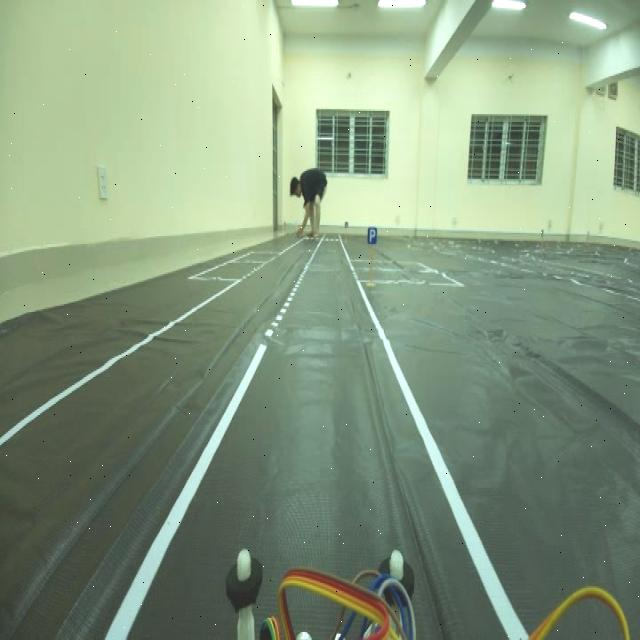parking: (364, 221, 380, 251)
